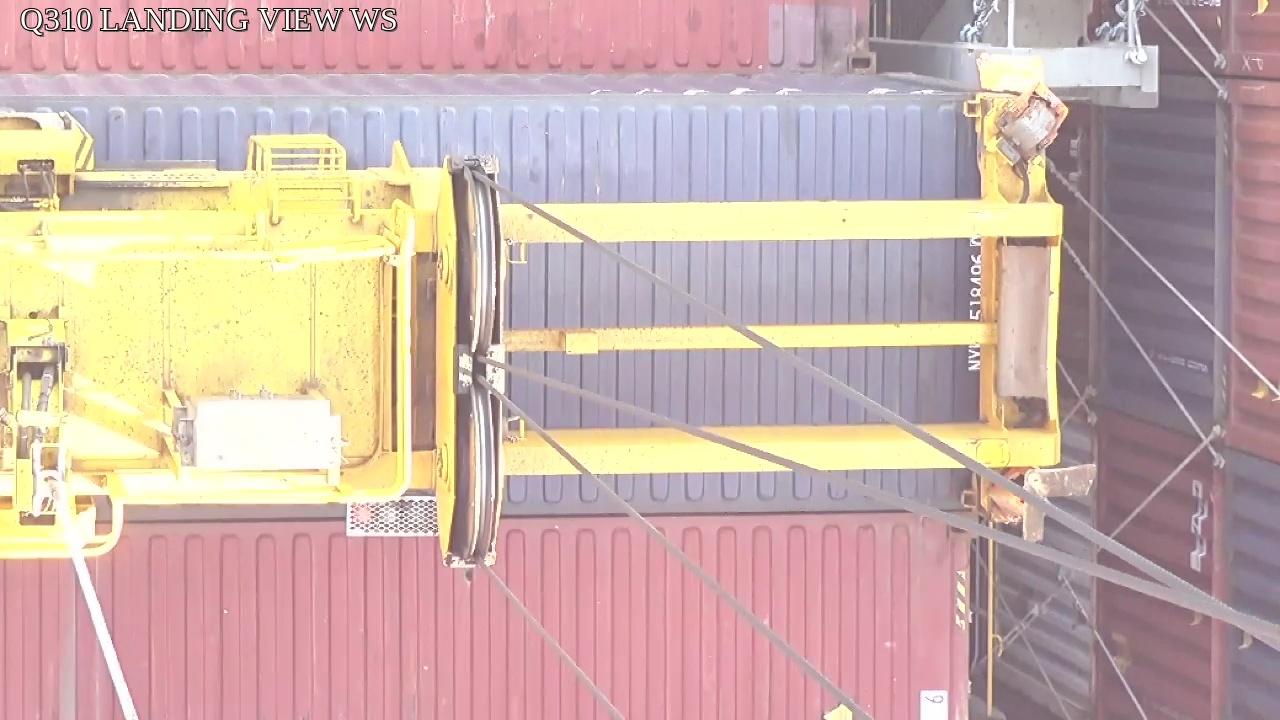right: (432, 153, 506, 568)
